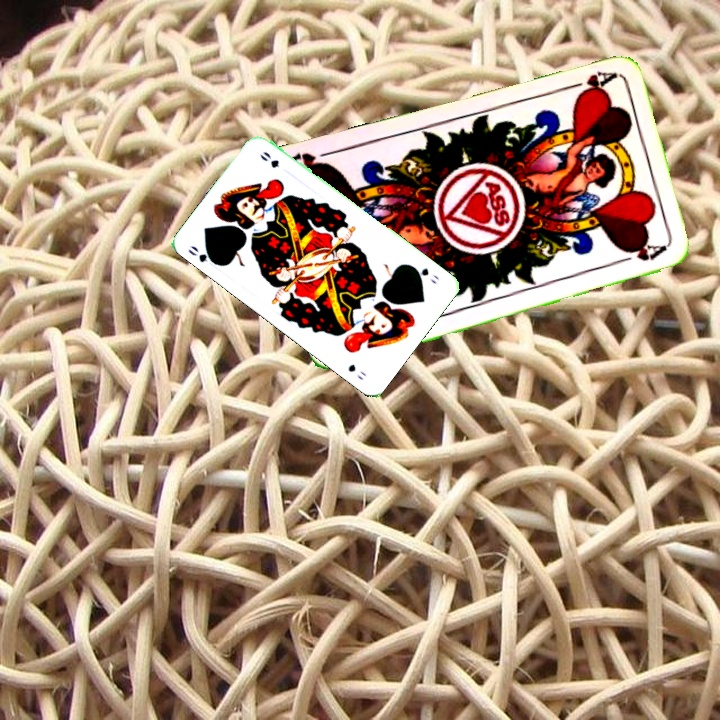GO: (184, 242, 221, 268), (407, 262, 442, 287)
HA: (559, 66, 617, 98)
